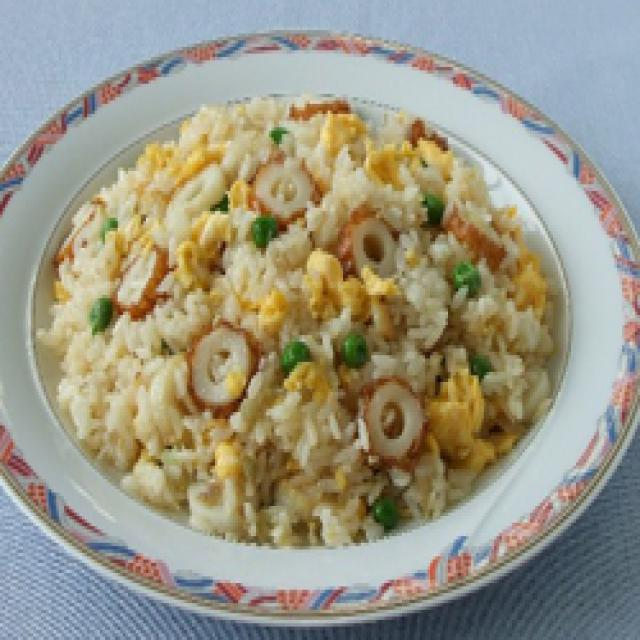米饭主食: (0, 27, 640, 623)
